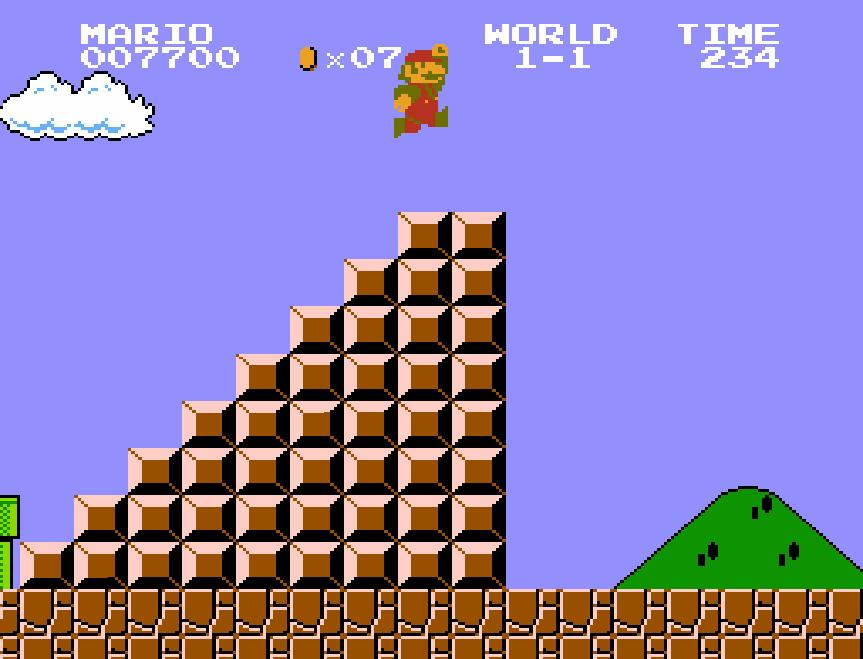big_mario: (392, 41, 450, 139)
